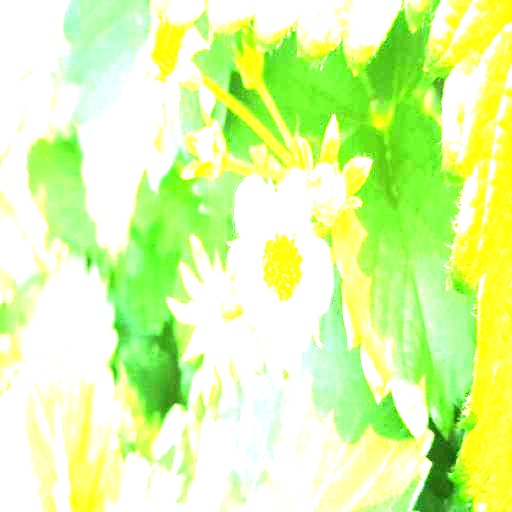Blossom Blight: (256, 218, 309, 307)
